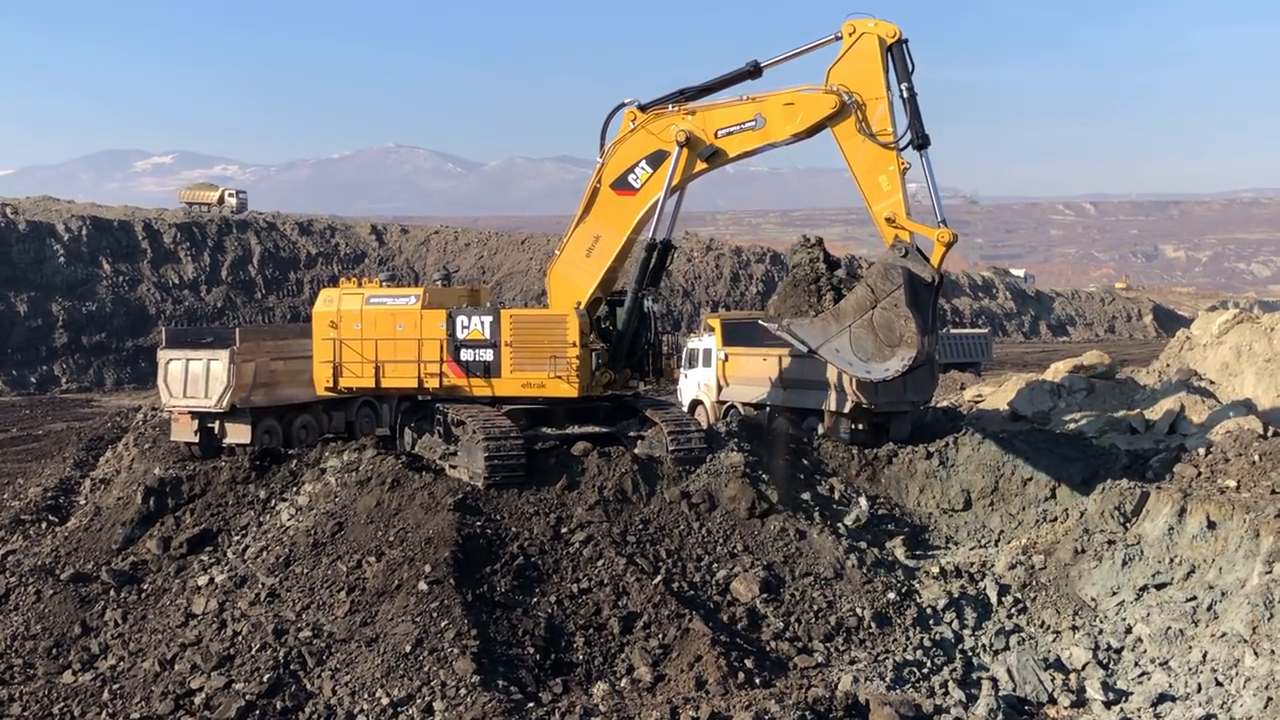full: (757, 221, 949, 394)
